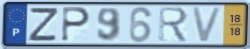6: (128, 6, 155, 44)
9: (96, 7, 122, 43)
P: (60, 6, 92, 43)
R: (157, 6, 190, 44)
V: (190, 6, 225, 44)
Z: (27, 7, 61, 43)
